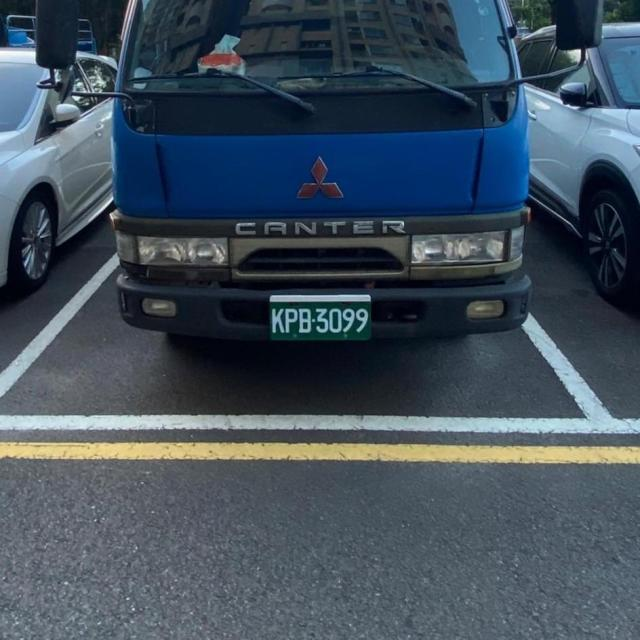GW: (266, 296, 374, 342)
